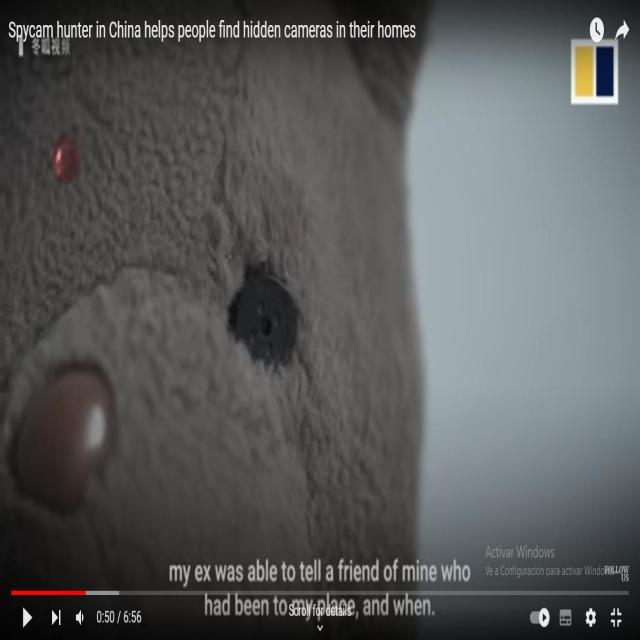hidden camera: (235, 260, 300, 372)
